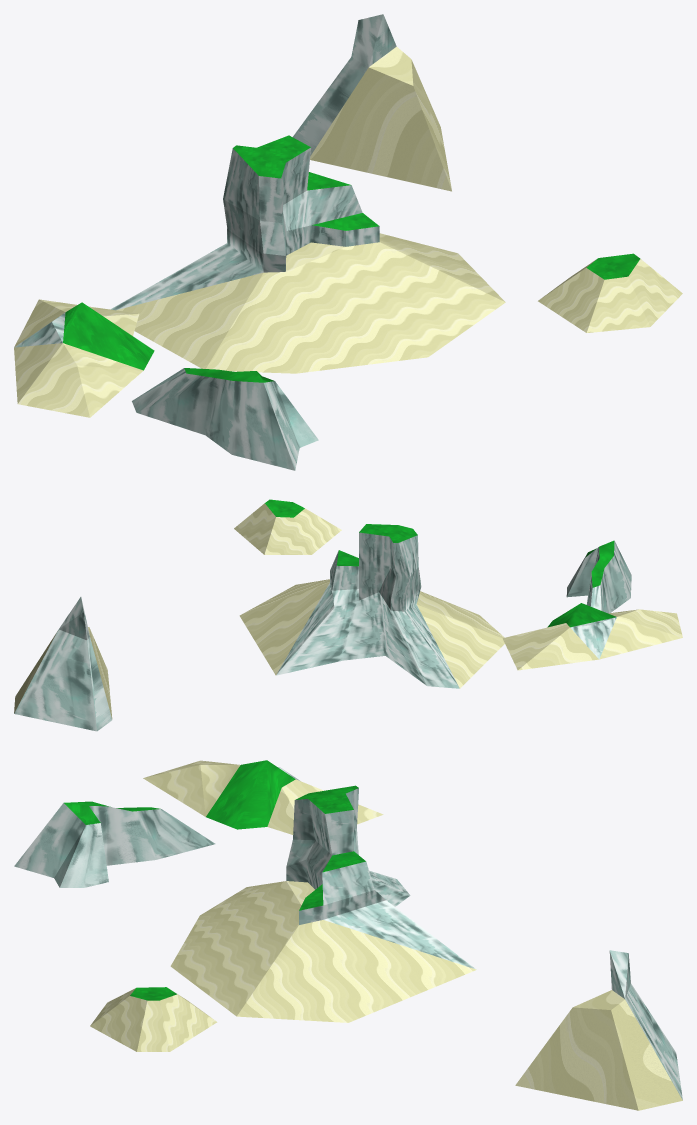
Rendered from islands.fbx.
The picture shows the model from 3 angles, top to bottom: view 1: azimuth 30°, elevation 25°; view 2: azimuth 150°, elevation 25°; view 3: azimuth 270°, elevation 25°; orthographic projection. The views are drawn at different scales.
Parts seen in each view (by area): view 1: island_center, island_spire_rock, island_g_mt, island_rocky_coast, island_flatty; view 2: island_center, island_spire_rock, island_g_mt, island_flatty, island_rocky_coast; view 3: island_center, island_spire_rock, island_rocky_coast, island_g_mt, island_flatty.
Part boxes in pixels (<box>): island_center: <box>110,135,505,373</box>; island_spire_rock: <box>293,14,451,191</box>; island_g_mt: <box>14,299,154,417</box>; island_rocky_coast: <box>132,368,318,470</box>; island_flatty: <box>538,253,682,332</box>; island_center: <box>239,524,504,688</box>; island_spire_rock: <box>14,597,112,731</box>; island_g_mt: <box>502,603,682,670</box>; island_flatty: <box>234,499,341,554</box>; island_rocky_coast: <box>566,540,631,613</box>; island_center: <box>170,785,476,1022</box>; island_spire_rock: <box>515,950,682,1110</box>; island_rocky_coast: <box>14,801,215,887</box>; island_g_mt: <box>143,760,383,834</box>; island_flatty: <box>90,987,217,1051</box>.
Bounding box in the file's own units: 44.4 × 11.68 × 42.93.
3 materials, 3 textured.
